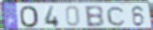0: (65, 5, 82, 28)
4: (44, 5, 61, 28)
6: (131, 5, 146, 27)
B: (84, 4, 106, 28)
C: (106, 5, 127, 27)
O: (19, 5, 41, 29)
